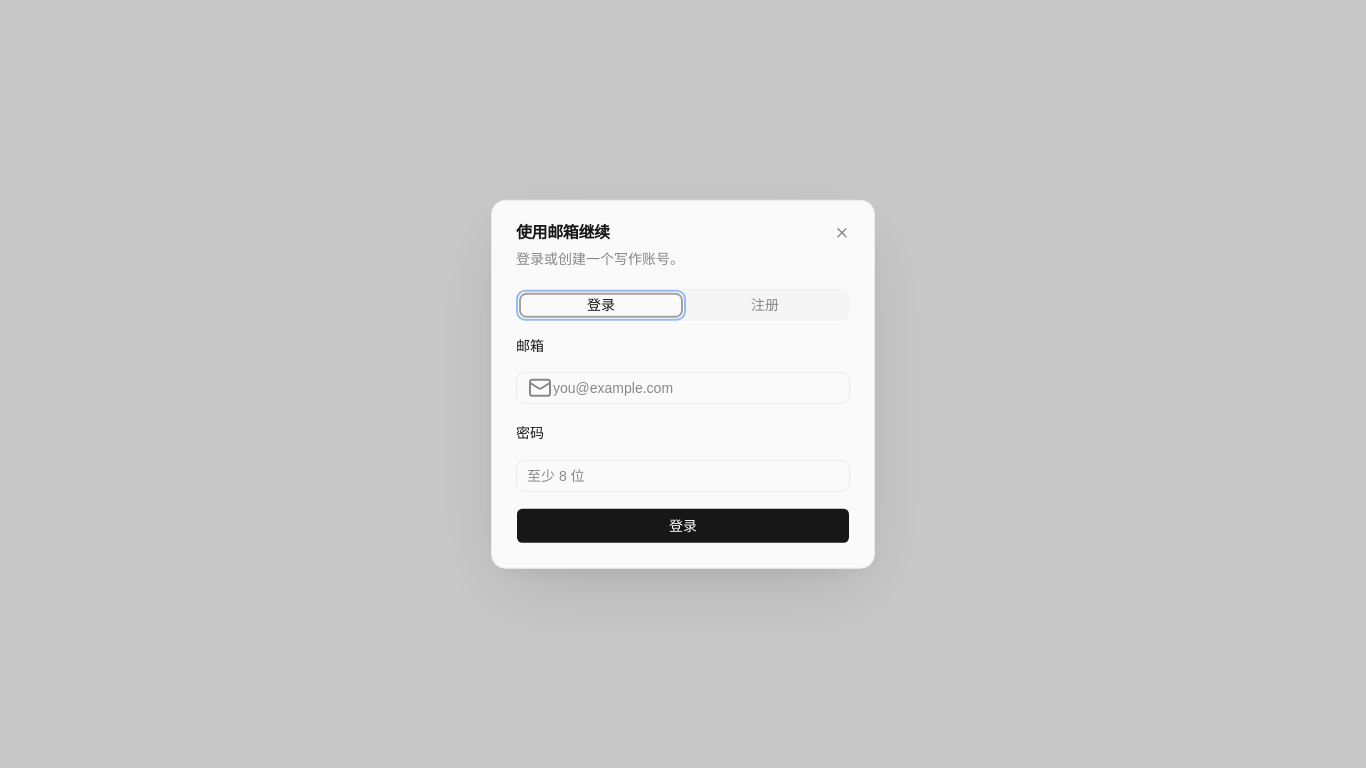
it: AuthModal › shows API failures without closing the modal
Type "writer@example.com" into the field labelled "邮箱" at (683, 388), box [516, 372, 850, 404]
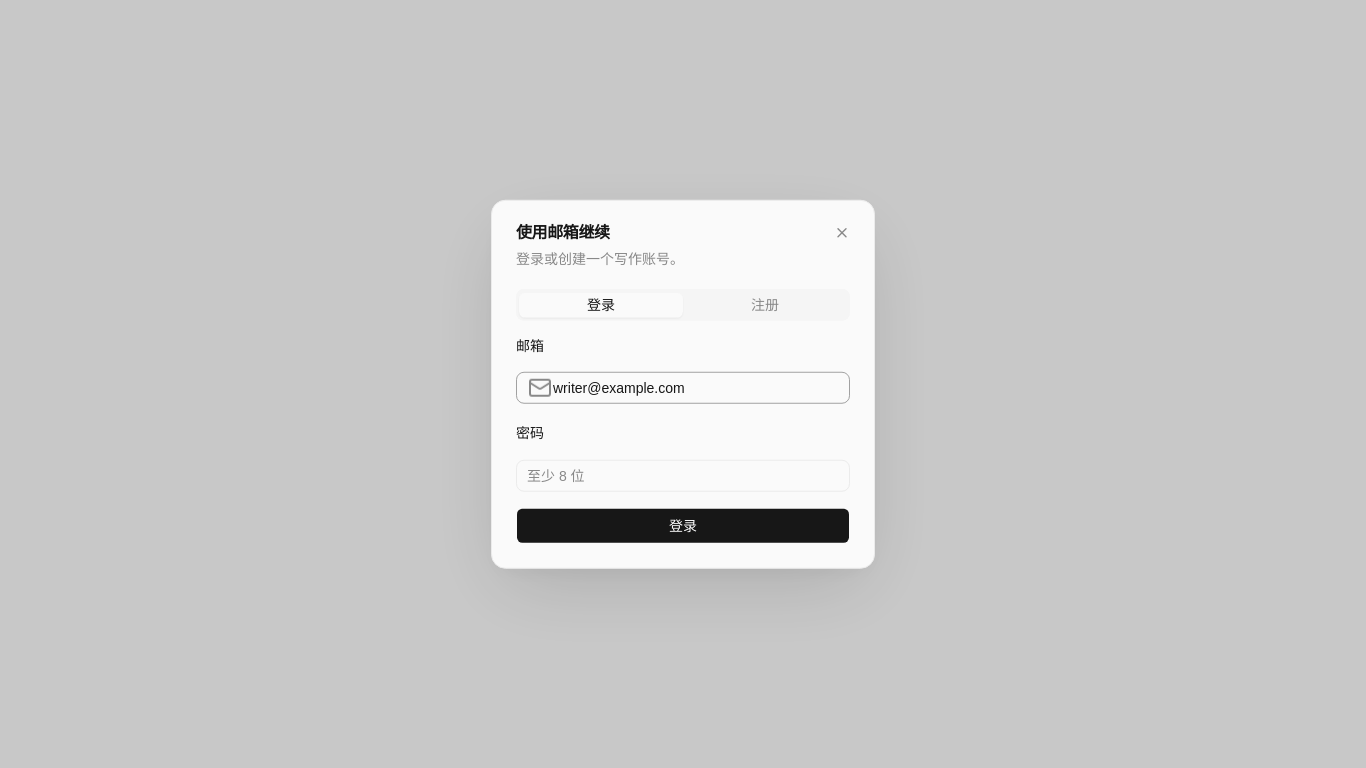
Type "secret123" into the password field labelled "密码" at (683, 475), box [516, 459, 850, 491]
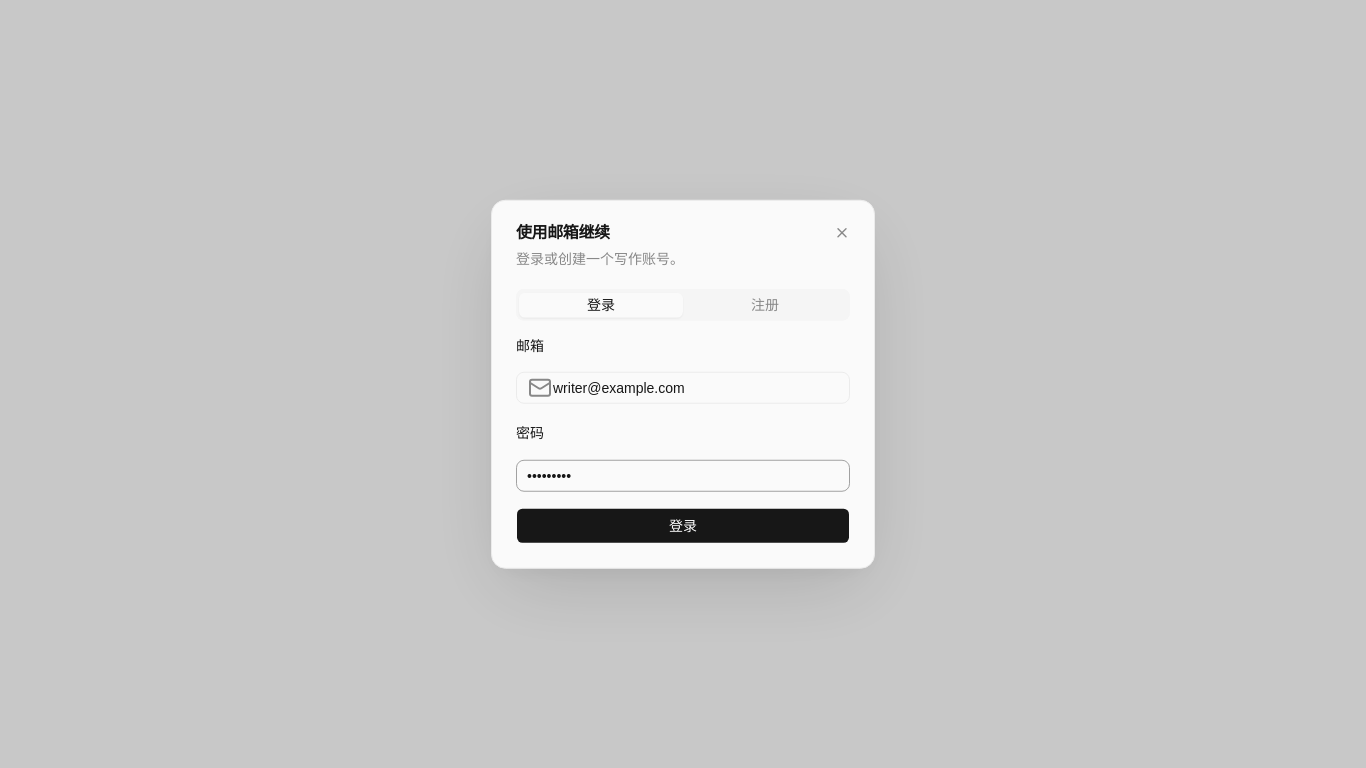
Click the button "登录" at (683, 525), box [516, 507, 850, 543]
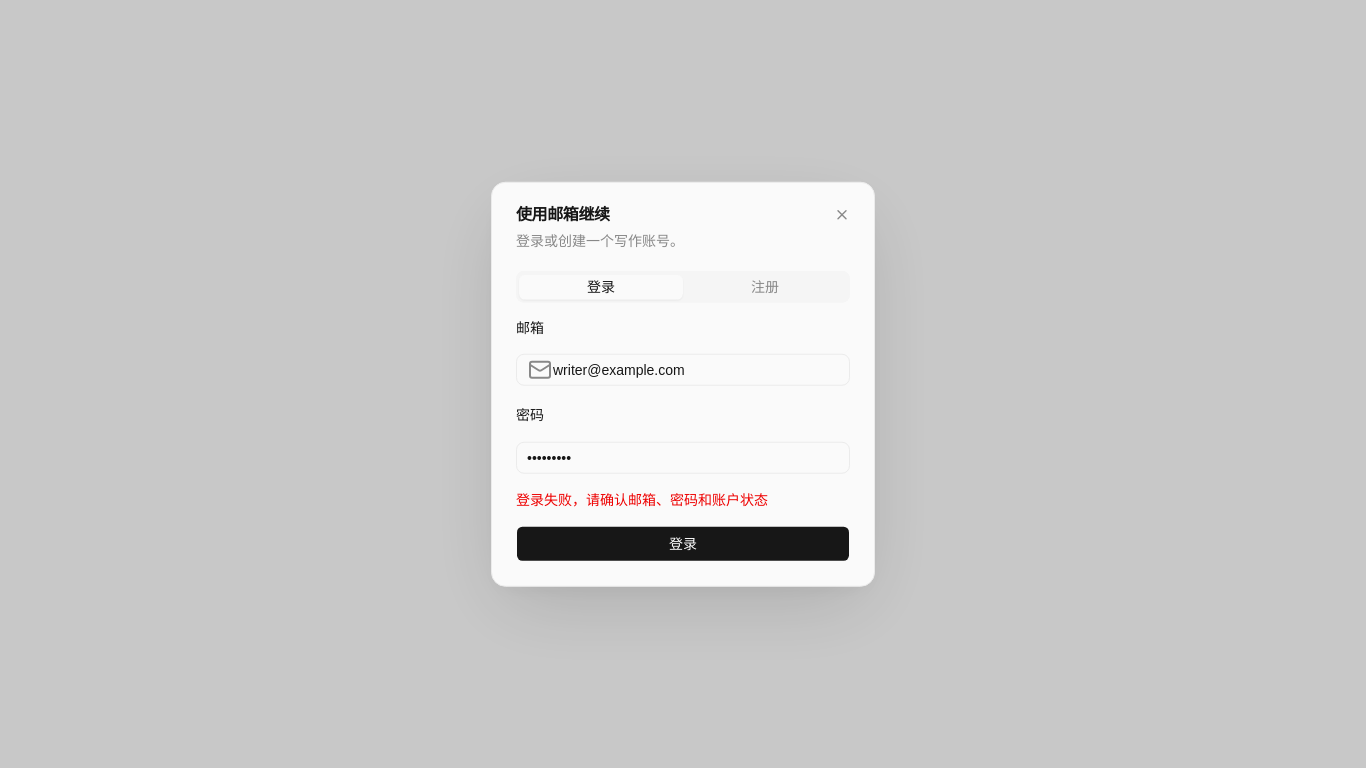
Now the text "登录失败，请确认邮箱、密码和账户状态" is shown, box [516, 491, 768, 507]
